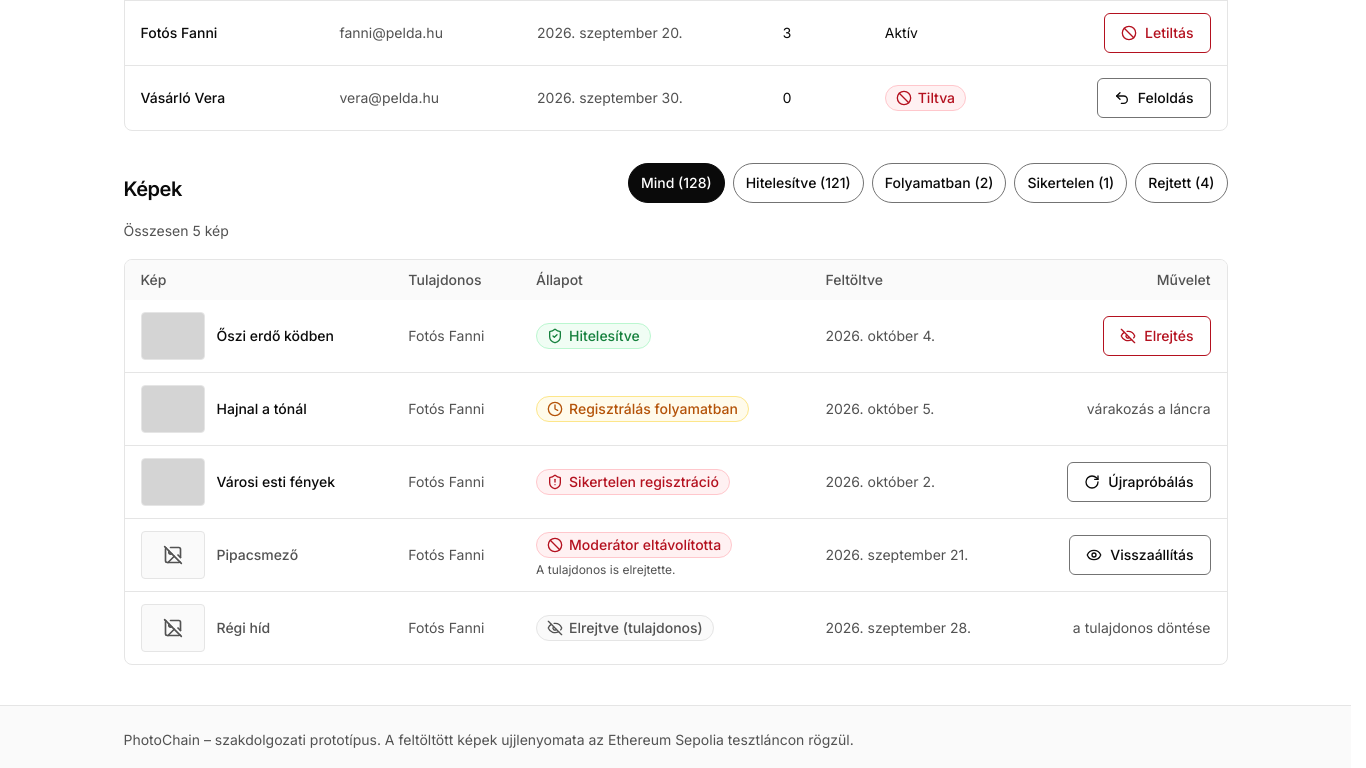
Scenario: AdminPage – képek moderálása és újrapróbálás › elrejtés: megerősítő ablak („Elrejted: …?”) a következményekkel, Elrejtés → PATCH {hidden: true}; a sor „Moderátor eltávolította” előnézet nélkül, a gombja Viss
(page scrolled)
Check: the text "Összesen 5 kép" is shown, box [124,222,229,239]
Click the button named "Elrejtés: Őszi erdő ködben".
click(1157, 336)  # box [1103,316,1210,356]
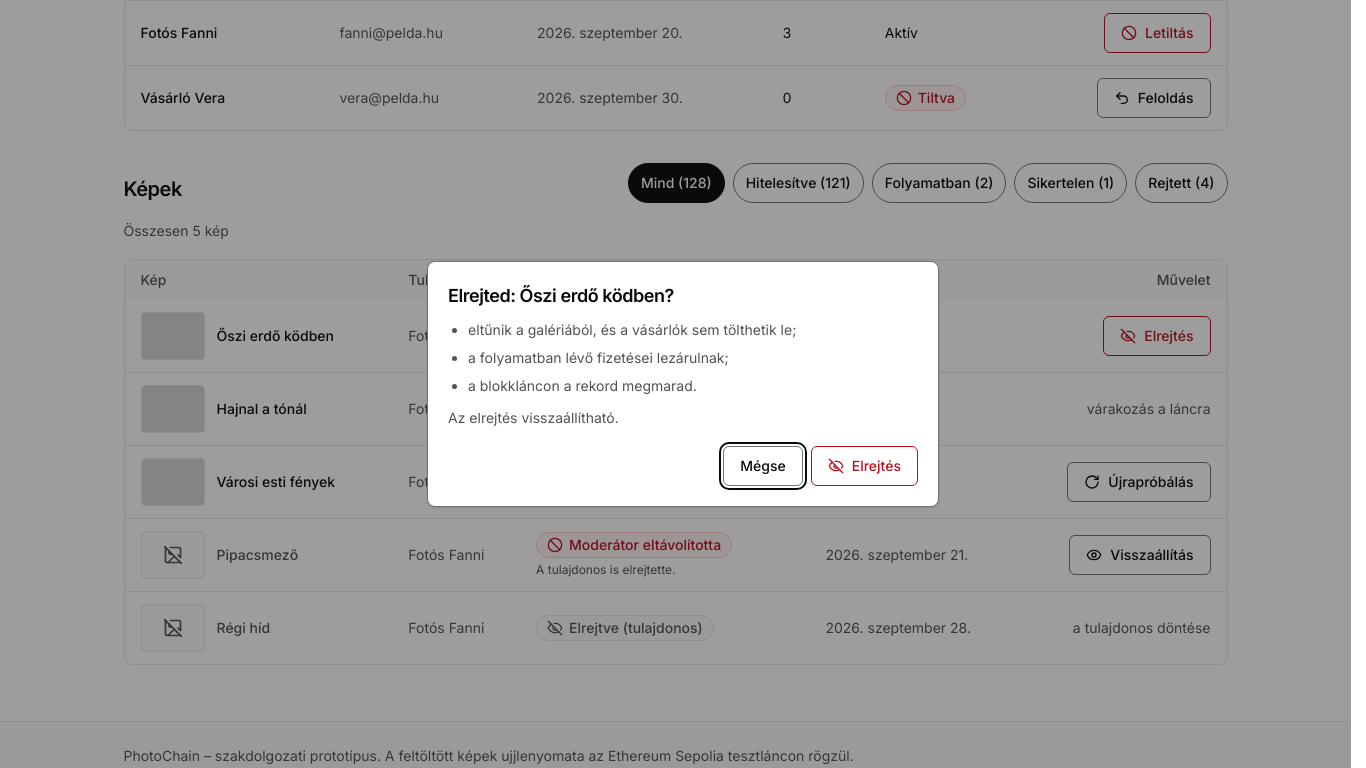
Check: the heading "Elrejted: Őszi erdő ködben?" is shown, box [448,285,674,306]
Check: the list items read "eltűnik a galériából, és a vásárlók sem tölthetik le;", "a folyamatban lévő fizetései lezárulnak;", "a blokkláncon a rekord megmarad.", in this order, box [468,321,796,338]; [468,349,729,366]; [468,377,697,394]
Click the button "Elrejtés".
click(864, 466)  # box [811,446,918,486]
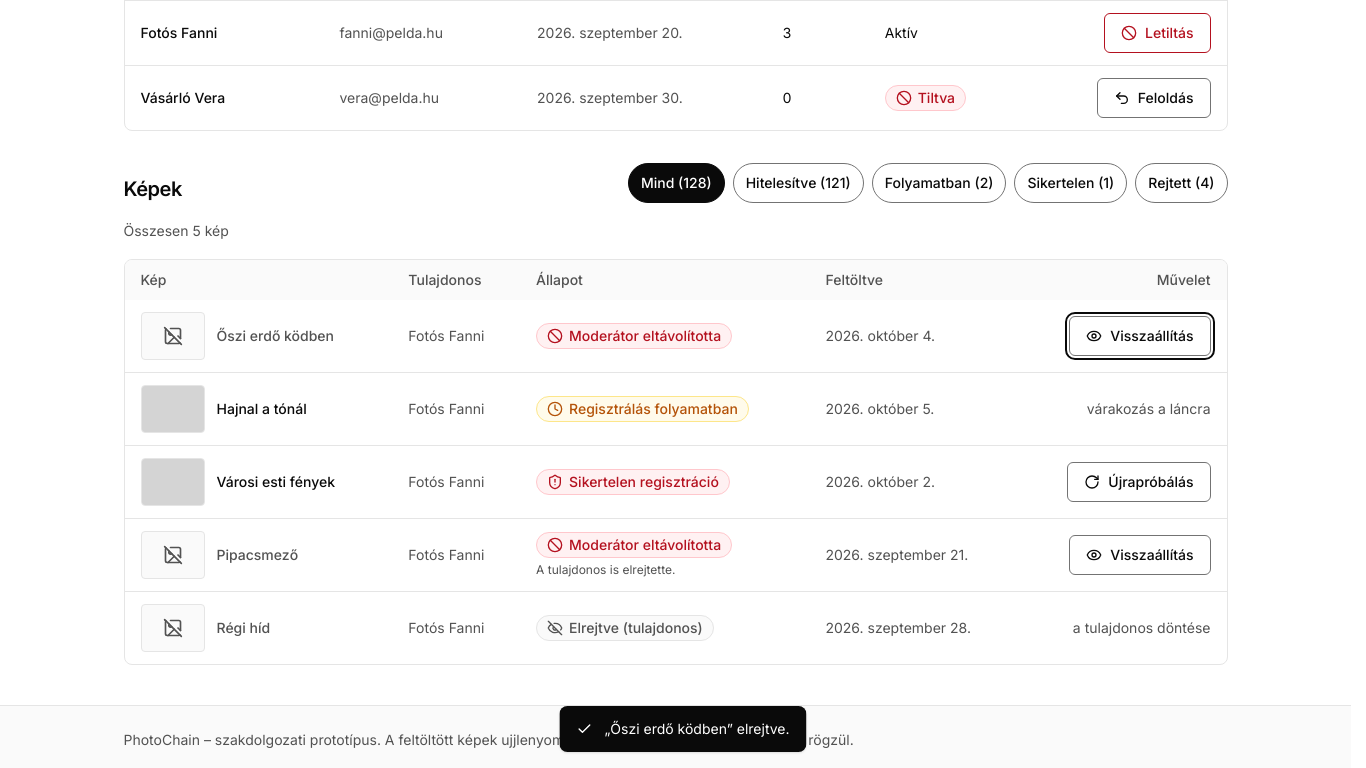
Check: the dialog is gone
Check: the text "Moderátor eltávolította" in the row of "Őszi erdő ködben" is shown, box [569,327,721,344]
